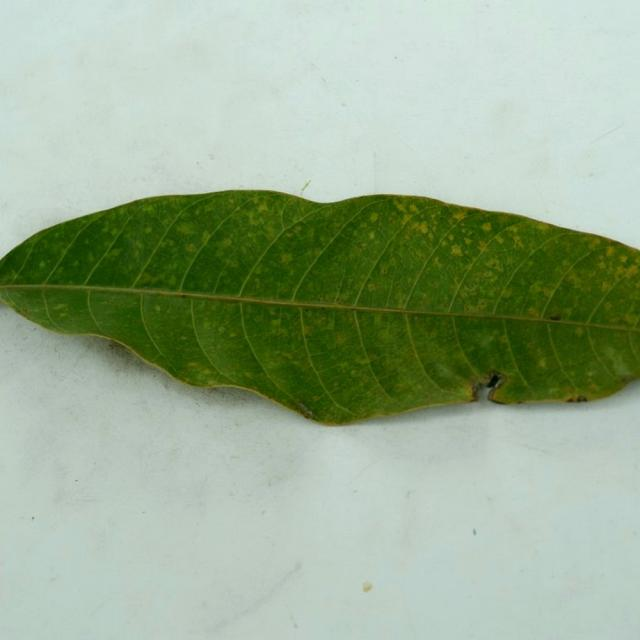Mango: (0, 191, 639, 423)
Powdery_Mildew: (88, 237, 146, 276), (427, 360, 458, 382), (601, 344, 628, 368), (473, 330, 499, 349), (446, 240, 463, 262), (319, 312, 336, 333), (275, 251, 294, 266), (246, 213, 266, 227), (177, 223, 195, 235), (400, 213, 415, 226), (530, 282, 545, 294), (624, 264, 637, 277), (453, 210, 468, 221), (475, 300, 488, 311), (624, 314, 638, 324), (605, 246, 617, 257), (511, 235, 523, 246), (219, 238, 232, 248), (486, 258, 499, 268), (597, 258, 608, 269), (257, 203, 269, 213), (165, 241, 177, 251), (481, 222, 492, 232), (185, 243, 197, 252), (355, 241, 367, 250), (548, 387, 561, 395), (418, 223, 428, 233), (544, 288, 555, 297), (357, 358, 368, 367), (187, 362, 201, 369), (54, 303, 67, 310), (478, 240, 487, 250), (574, 327, 584, 336), (369, 212, 378, 222), (527, 307, 538, 315), (538, 358, 547, 367), (434, 258, 443, 267), (270, 319, 280, 327), (379, 266, 389, 274), (421, 291, 431, 299), (282, 352, 293, 359), (496, 237, 505, 245), (601, 282, 609, 291), (367, 283, 376, 291), (312, 395, 321, 403), (464, 238, 472, 246), (368, 232, 376, 240), (447, 235, 455, 243), (619, 256, 627, 263), (39, 261, 46, 269), (144, 228, 152, 235), (218, 326, 226, 333), (349, 371, 358, 377), (586, 371, 595, 377), (154, 305, 161, 312), (74, 260, 80, 266), (414, 316, 419, 321)
